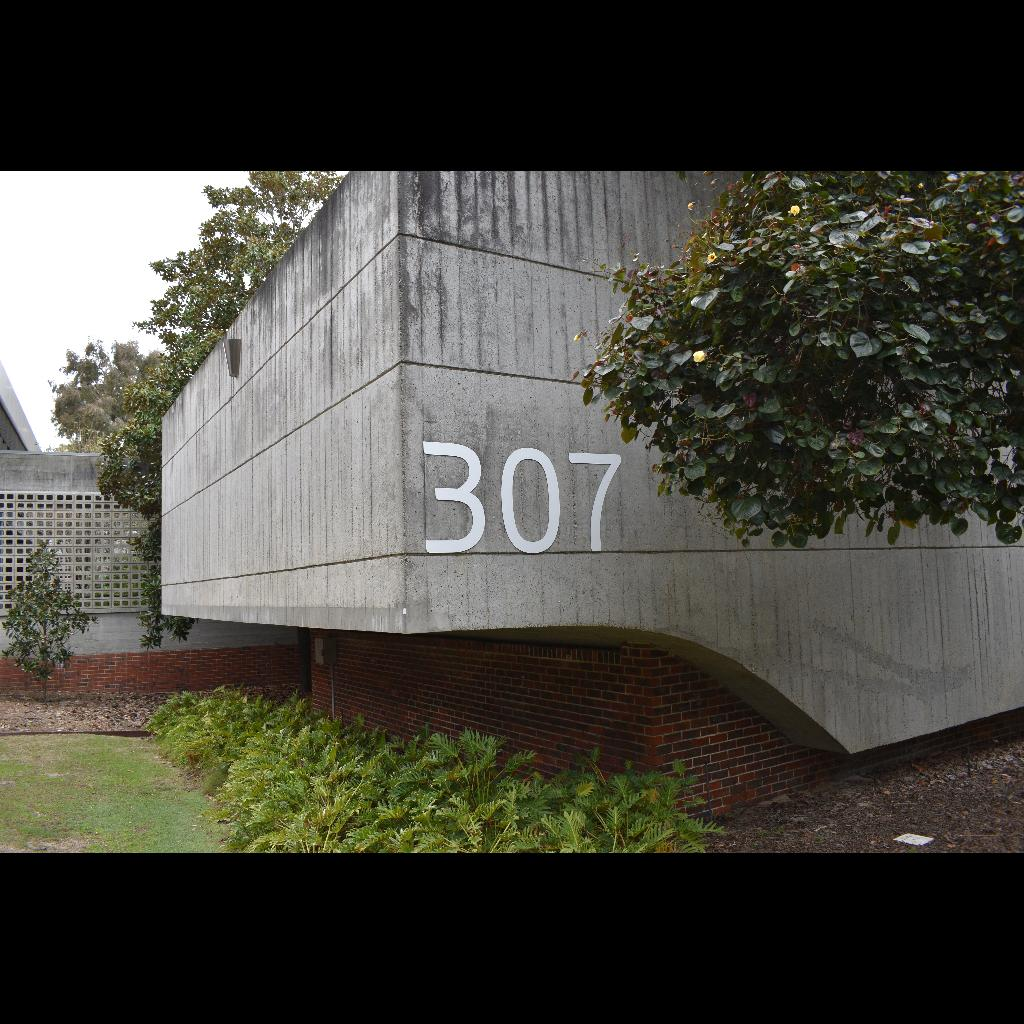BuildingCodes: (422, 436, 624, 556)
